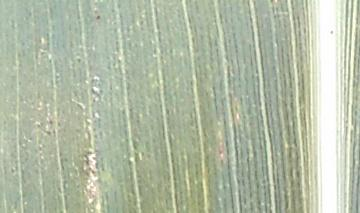tarspot: (93, 10, 105, 23)
